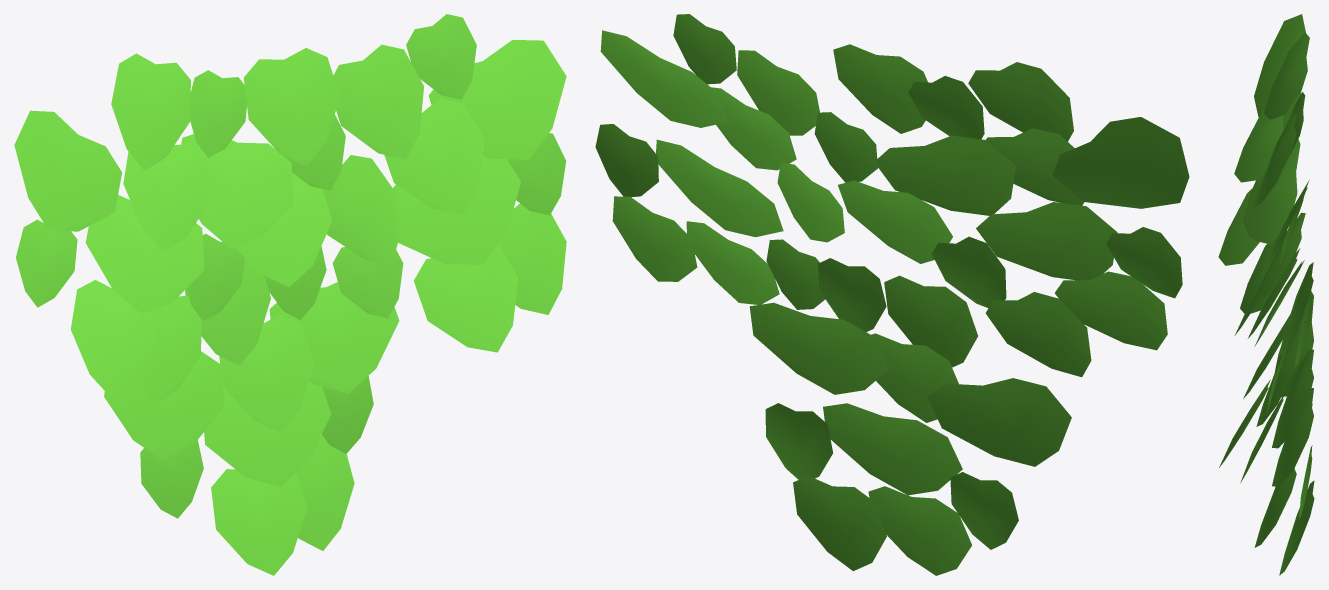
The model's file is WallPlant.fbx.
3 views of the same model, side by side, from view 1: azimuth 30°, elevation 25°; view 2: azimuth 150°, elevation 25°; view 3: azimuth 270°, elevation 25° (orthographic). The views are drawn at different scales.
Parts seen in each view (by area): view 1: WallPlant; view 2: WallPlant; view 3: WallPlant.
Boxes of the visible parts, left/top/right/bottom form: WallPlant: left=14, top=14, right=566, bottom=575; WallPlant: left=595, top=14, right=1189, bottom=575; WallPlant: left=1218, top=14, right=1314, bottom=575.
Bounding box in the file's own units: 0.8687 × 0.7988 × 0.1495.
